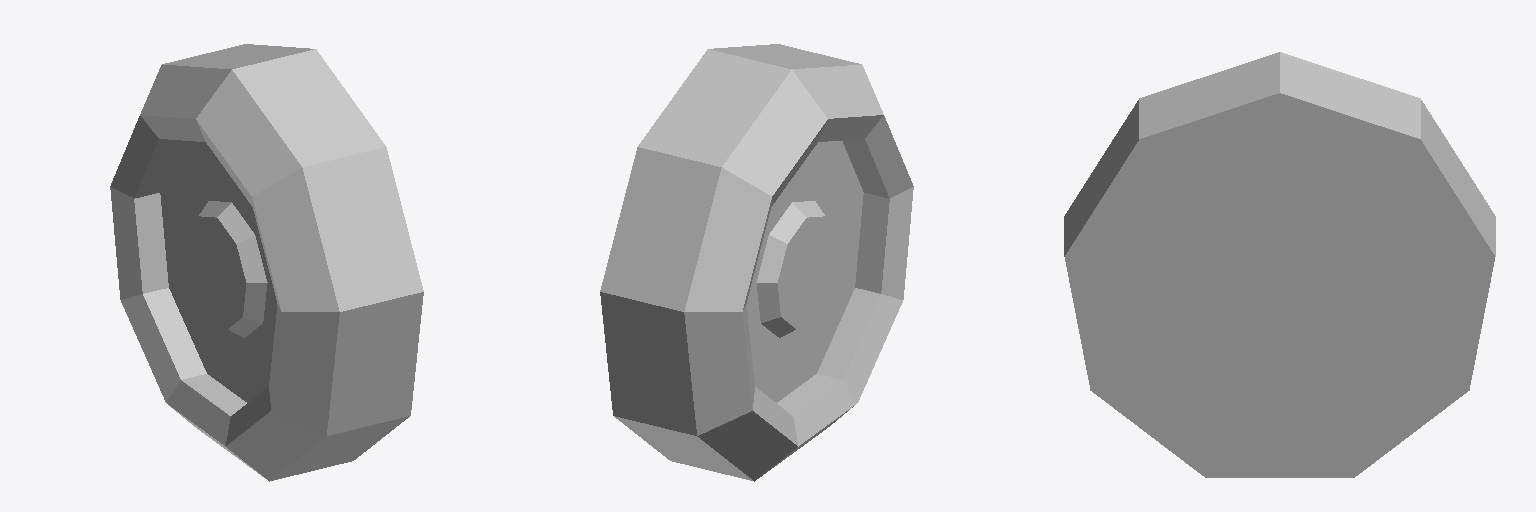
File: wheel.obj
3 views of the same model, side by side, from view 1: azimuth 30°, elevation 25°; view 2: azimuth 150°, elevation 25°; view 3: azimuth 270°, elevation 25° (orthographic).
Visible parts, largest first — view 1: Wheel6-4; view 2: Wheel6-4; view 3: Wheel6-4.
Boxes of the visible parts, x1=… form: Wheel6-4: x1=110, y1=44, x2=423, y2=481; Wheel6-4: x1=600, y1=44, x2=913, y2=481; Wheel6-4: x1=1064, y1=52, x2=1495, y2=477.
Size of the model in its own units: 0.2501 by 0.7641 by 0.7759.